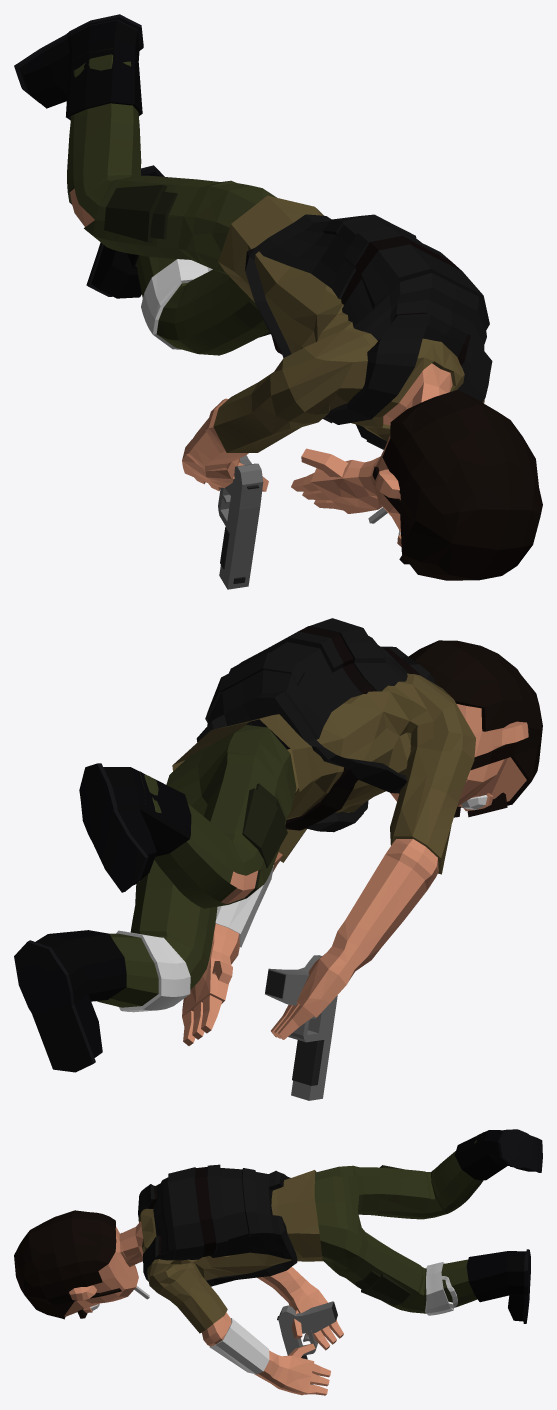
File: frame_0056.obj
3 renders of one model, top to bottom at view 1: azimuth 30°, elevation 25°; view 2: azimuth 150°, elevation 25°; view 3: azimuth 270°, elevation 25°, orthographic. The views are drawn at different scales.
Visible parts, largest first — view 1: Body, Gun; view 2: Body, Gun; view 3: Body, Gun.
Part boxes in pixels (<box>): Body: <box>14,14,542,580</box>; Gun: <box>218,455,263,589</box>; Body: <box>14,618,542,1072</box>; Gun: <box>265,955,337,1100</box>; Body: <box>14,1129,542,1395</box>; Gun: <box>277,1301,337,1384</box>.
Bounding box in the file's own units: 1.27 × 2.3 × 4.04.
